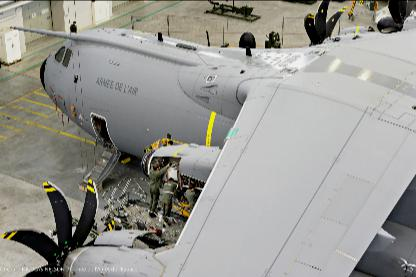A400M: (0, 0, 415, 275)
